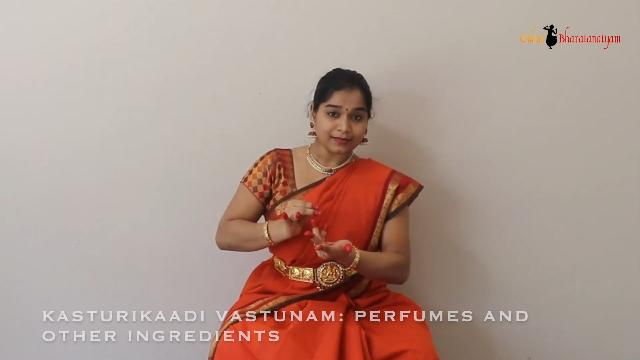katak: (291, 214, 365, 284), (262, 174, 322, 244)
